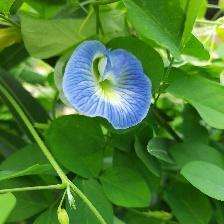shankupushpam: (61, 40, 156, 132)
